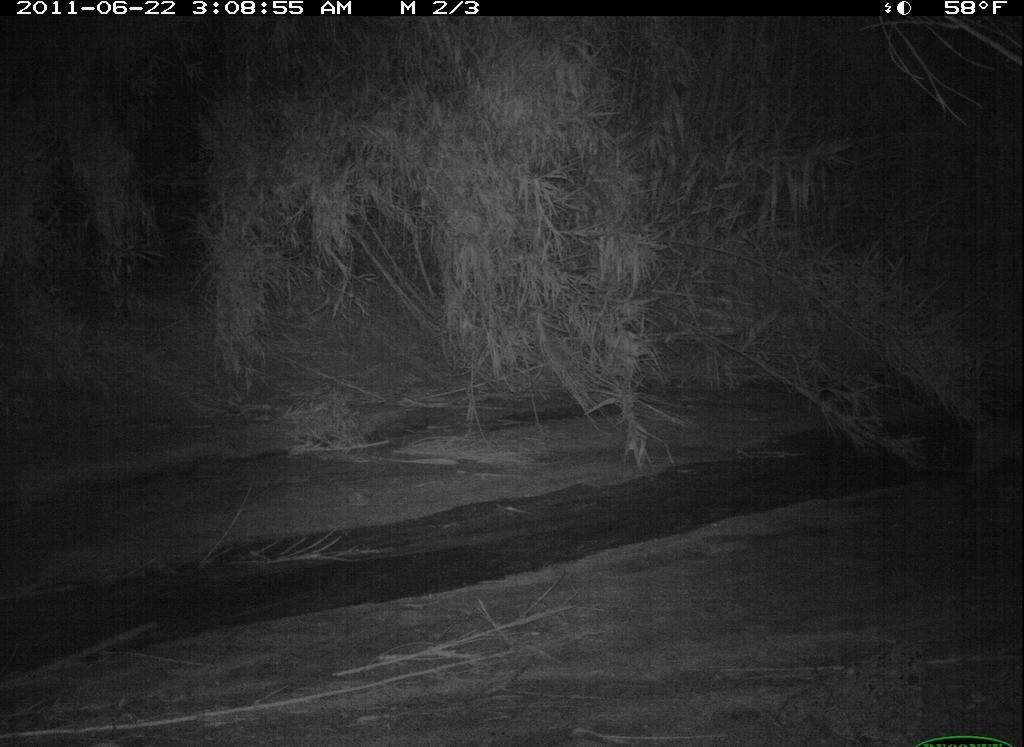bobcat: (960, 397, 1024, 498)
